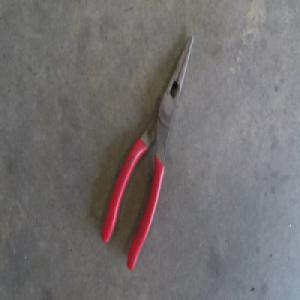Pliers: (103, 31, 193, 265)
